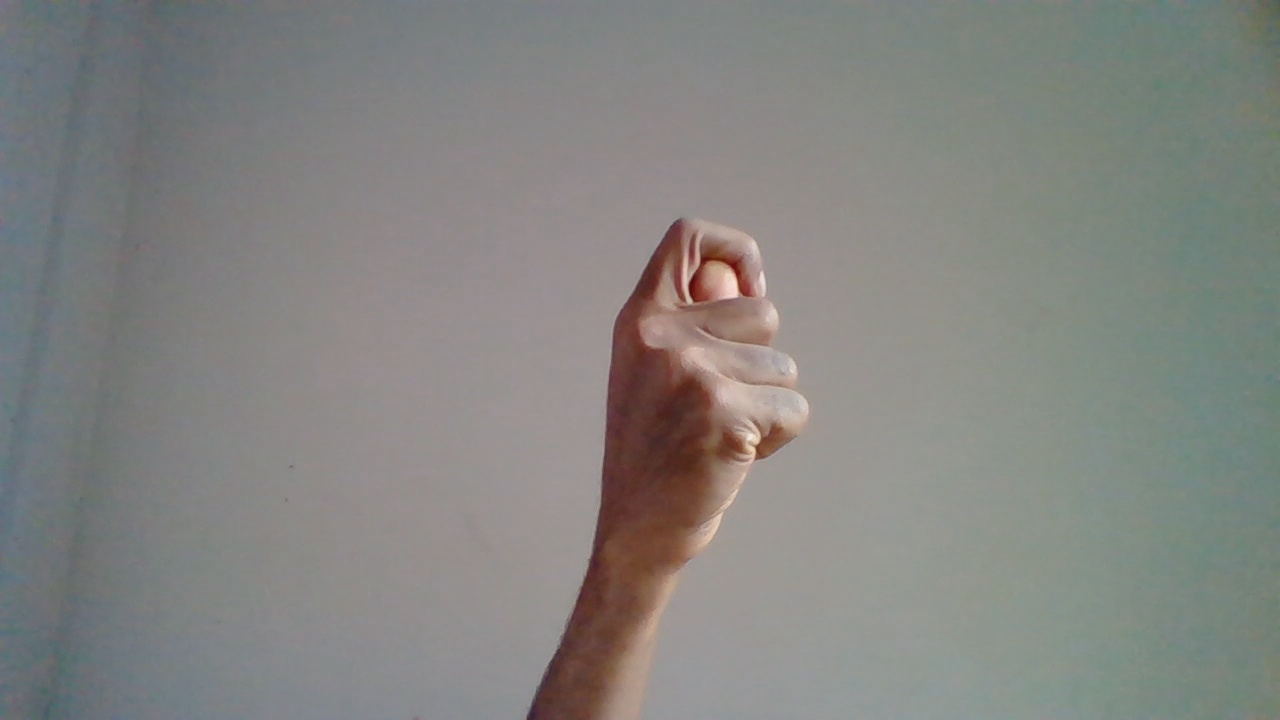che: (592, 216, 812, 672)
